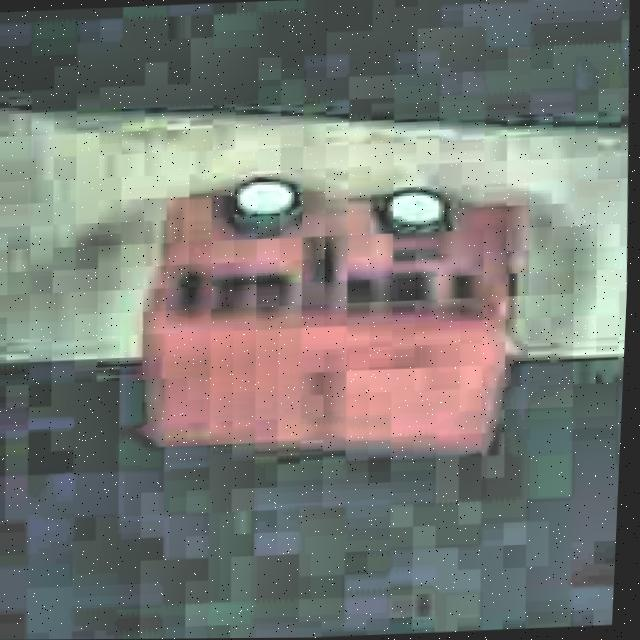bus: (131, 162, 536, 466)
